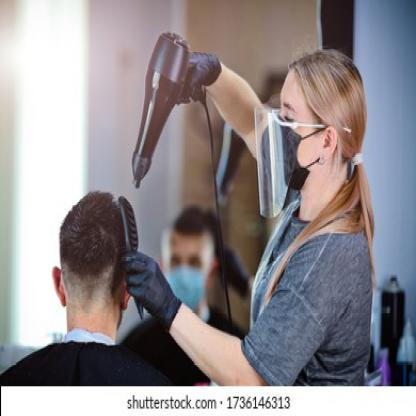with_gloves: (125, 250, 182, 334), (173, 50, 222, 106)
